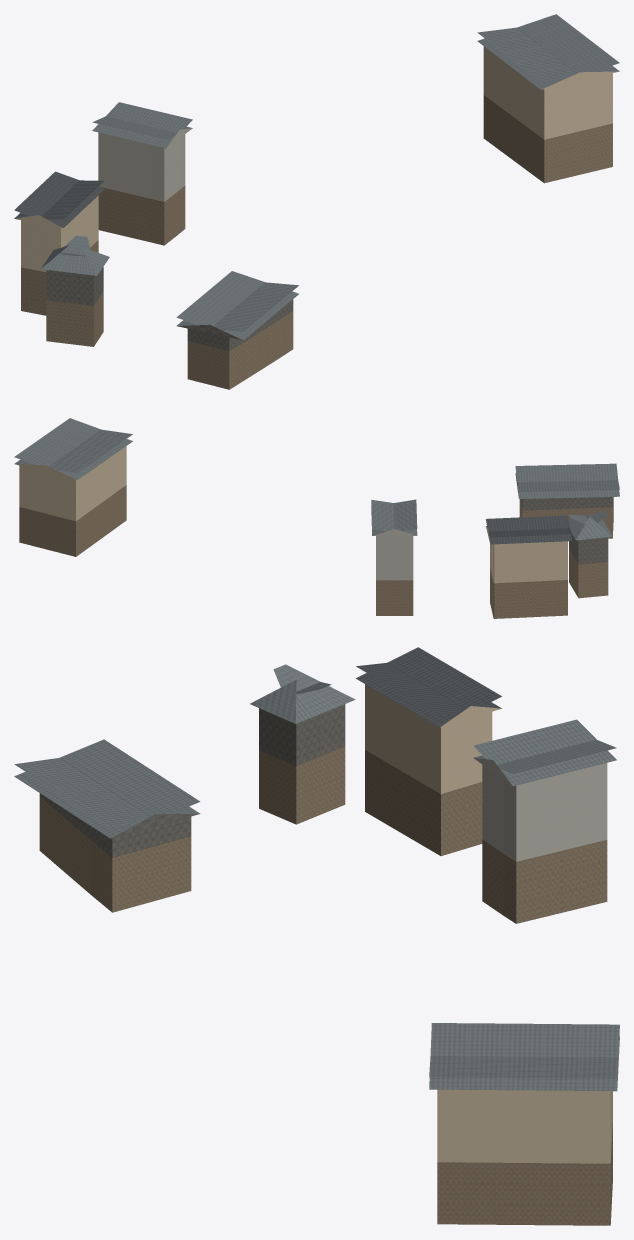
Rendered from bld_c18_29_376.gltf.
The picture shows the model from 3 angles, top to bottom: view 1: azimuth 30°, elevation 25°; view 2: azimuth 150°, elevation 25°; view 3: azimuth 270°, elevation 25°; orthographic projection. The views are drawn at different scales.
Visible parts, largest first — view 1: bld_c18_29_376; view 2: bld_c18_29_376; view 3: bld_c18_29_376.
Part boxes in pixels (box(x1,y1,x2,y2)): bld_c18_29_376: box(14, 14, 619, 389); bld_c18_29_376: box(14, 418, 619, 618); bld_c18_29_376: box(14, 647, 619, 1225).
Bounding box in the file's own units: 76.44 × 14.5 × 45.13.
Materials: 9 (9 with a texture image).
